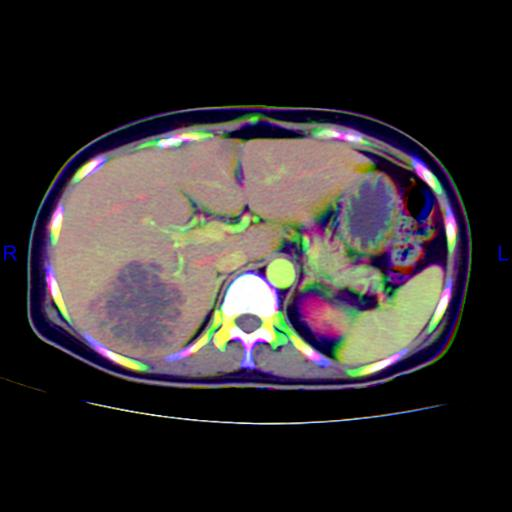Abscess: (90, 261, 185, 355)
